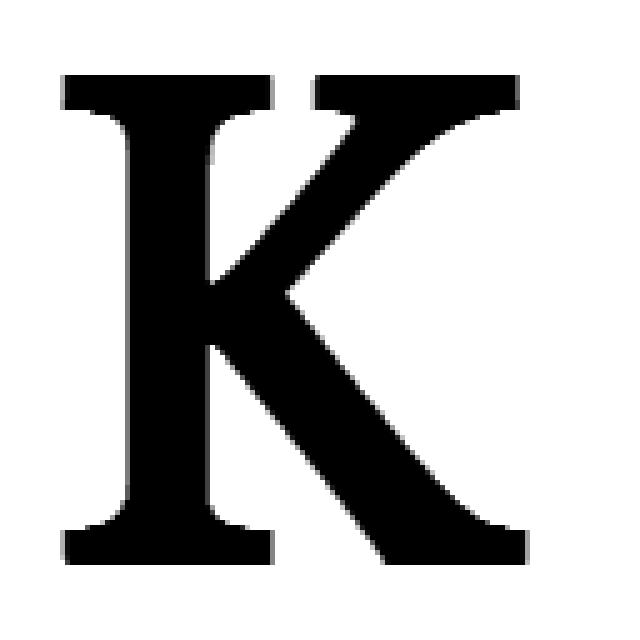K: (30, 74, 542, 560)
